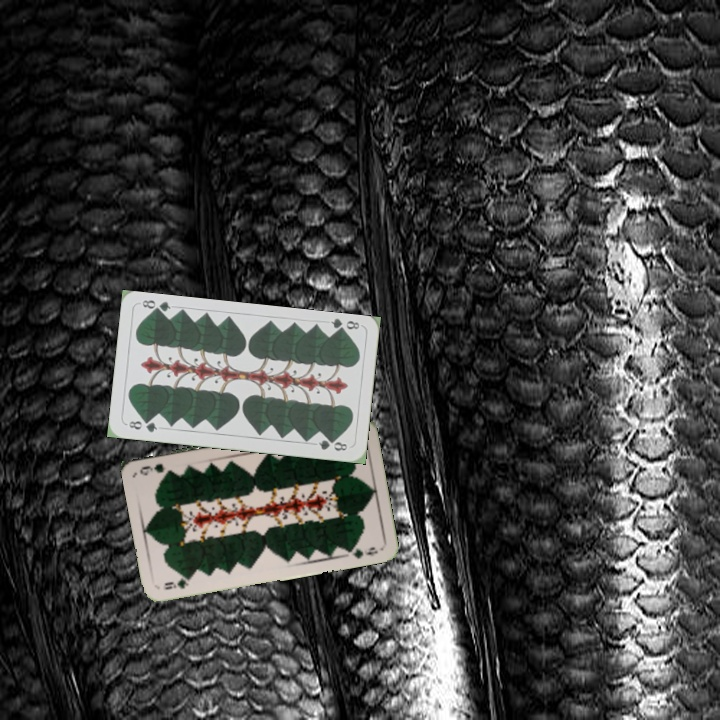G8: (327, 315, 362, 336), (125, 416, 160, 435)
G9: (161, 573, 196, 592)
